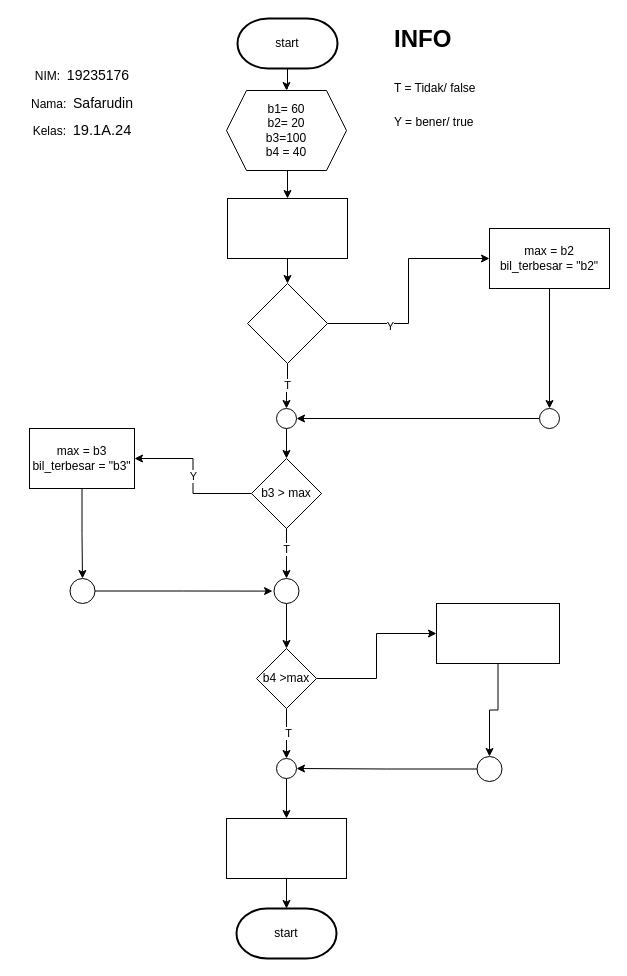
The diagram is 627 pixels wide and 976 high, and some of its shapes have lost their labels. The centre of each missing label's shape, as x and y in pixels:
b2 > max: pixel 287 323
cetek max dan bil_terbesar: pixel 286 848
max = b1 bil_terbesar = "b1": pixel 287 228
max=b4 bil_terbesar = "b4": pixel 498 633
